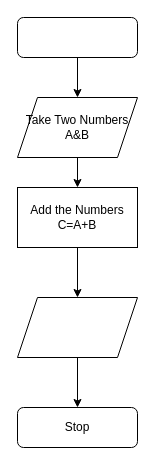
Some shapes in this 155 by 465 pixel diagram are drawn without their labels. Here are the shapes that lost their labels. From the top down, the centre of each, then its label:
[77,37]: Start
[77,327]: Print C
